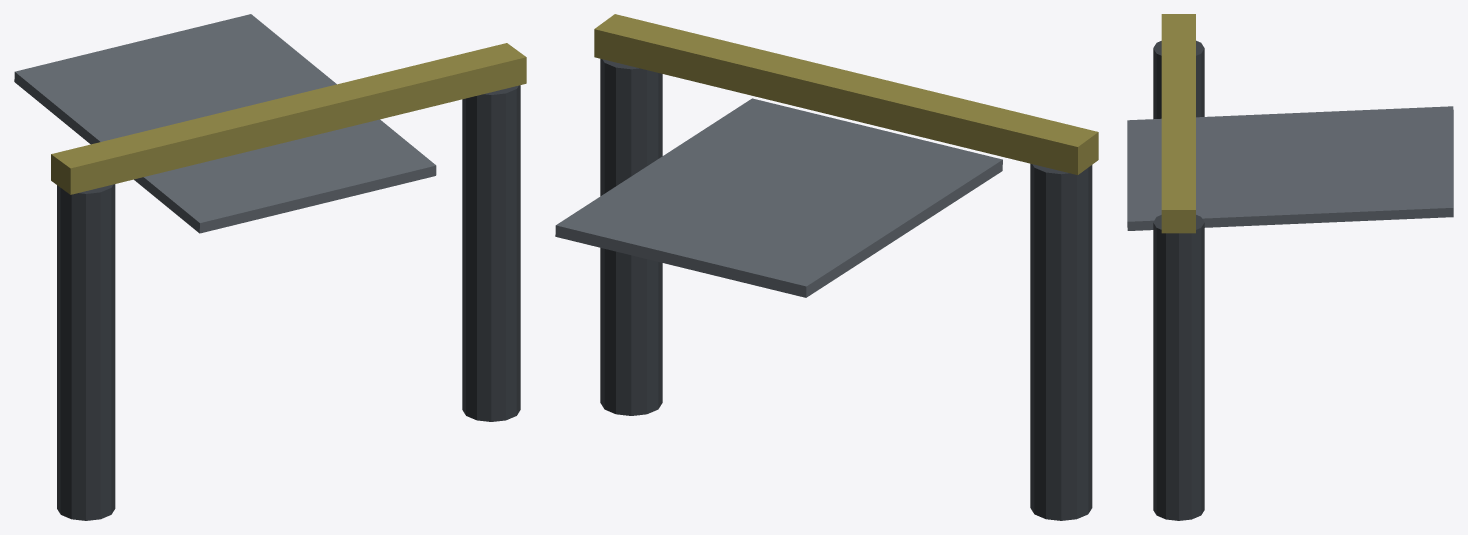
The model's file is linkspan.glb.
3 renders of one model, left to right at view 1: azimuth 30°, elevation 25°; view 2: azimuth 150°, elevation 25°; view 3: azimuth 270°, elevation 25°, orthographic. The views are drawn at different scales.
Parts seen in each view (by area): view 1: LOD0; view 2: LOD0; view 3: LOD0.
Part boxes in pixels (<box>): LOD0: <box>14,14,526,520</box>; LOD0: <box>555,14,1098,520</box>; LOD0: <box>1127,14,1453,520</box>.
Size of what is drawn, in the model's own units: 27 by 20 by 19.03.
